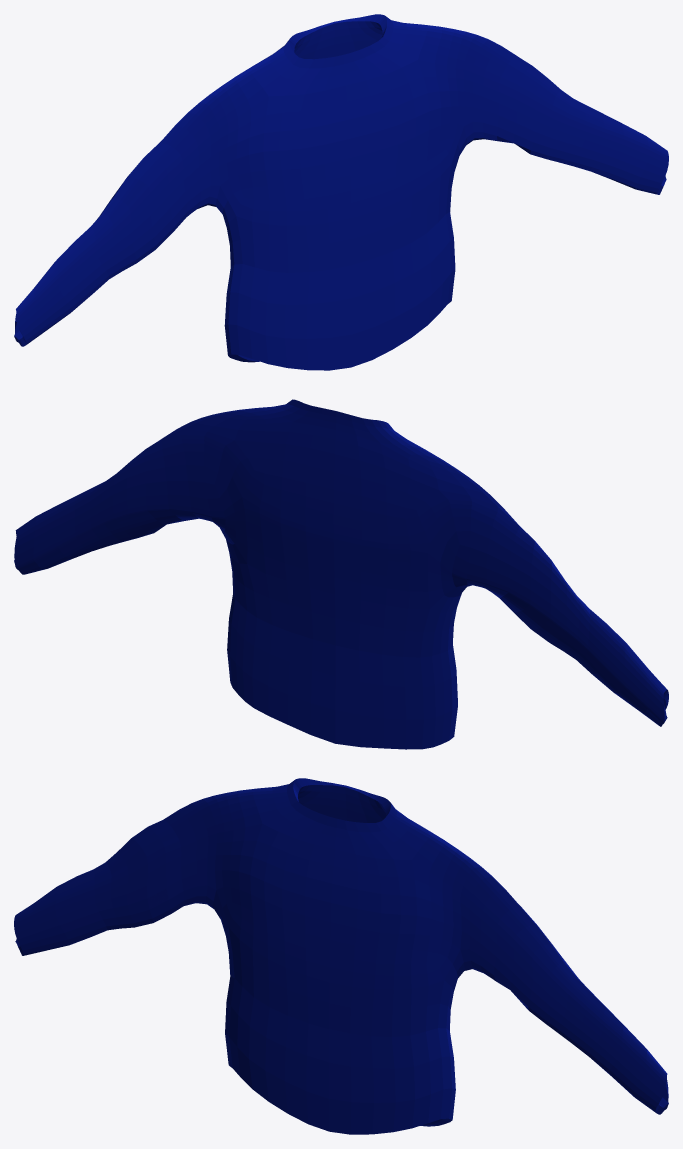
File: magliasolida 1.fbx
The picture shows the model from 3 angles, top to bottom: view 1: azimuth 30°, elevation 25°; view 2: azimuth 150°, elevation 25°; view 3: azimuth 330°, elevation 25°; orthographic projection.
Visible parts, largest first — view 1: Plane.001; view 2: Plane.001; view 3: Plane.001.
Part boxes in pixels (bbox=[...]): Plane.001: bbox=[14, 14, 668, 370]; Plane.001: bbox=[14, 399, 668, 749]; Plane.001: bbox=[14, 778, 668, 1134].
Size of the model in its own units: 124 by 60.53 by 6.75.
